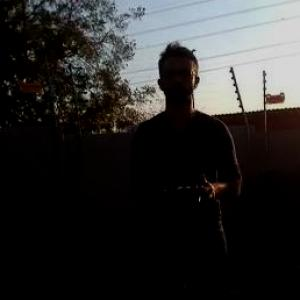follow: (127, 37, 251, 299)
